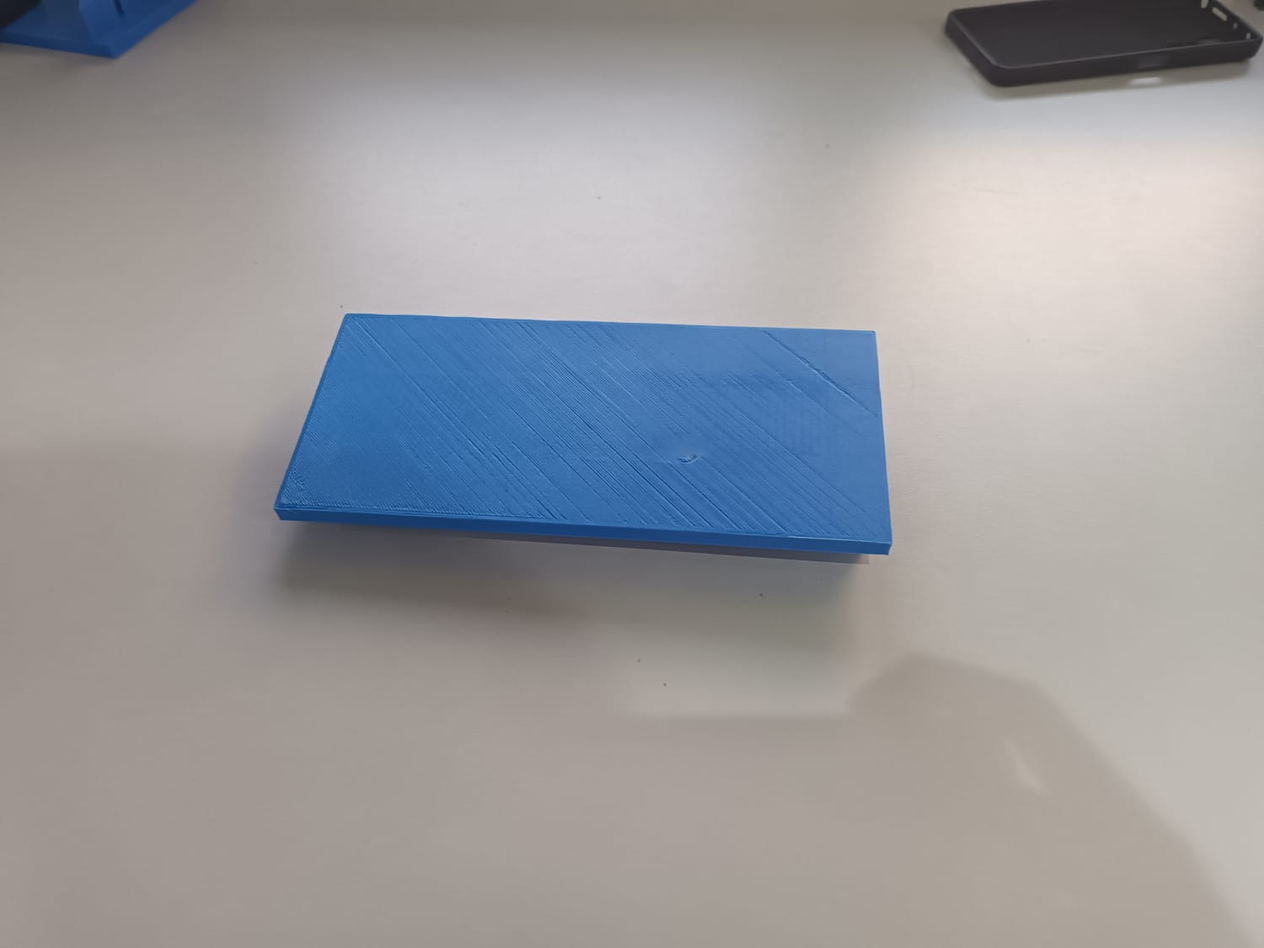Rectangular: (262, 307, 901, 566)
